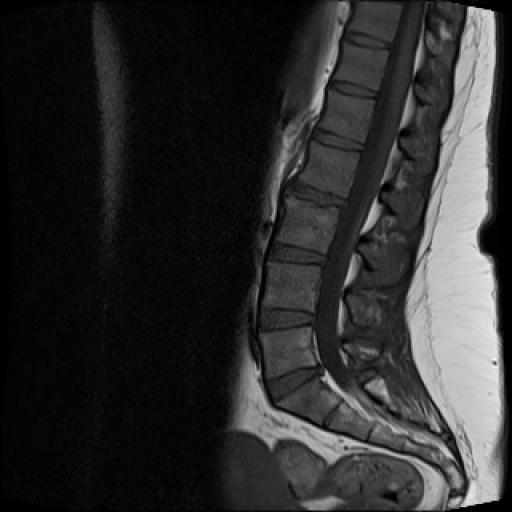L1: (317, 89, 375, 142)
L2: (297, 140, 358, 200)
L3: (275, 195, 342, 255)
L4: (262, 262, 321, 314)
L5: (259, 326, 317, 378)
S1: (275, 378, 340, 426)
